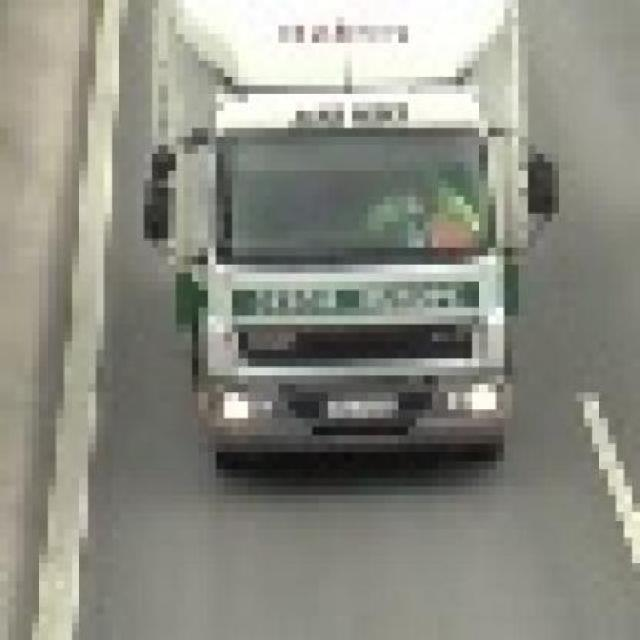truck: (145, 1, 569, 470)
